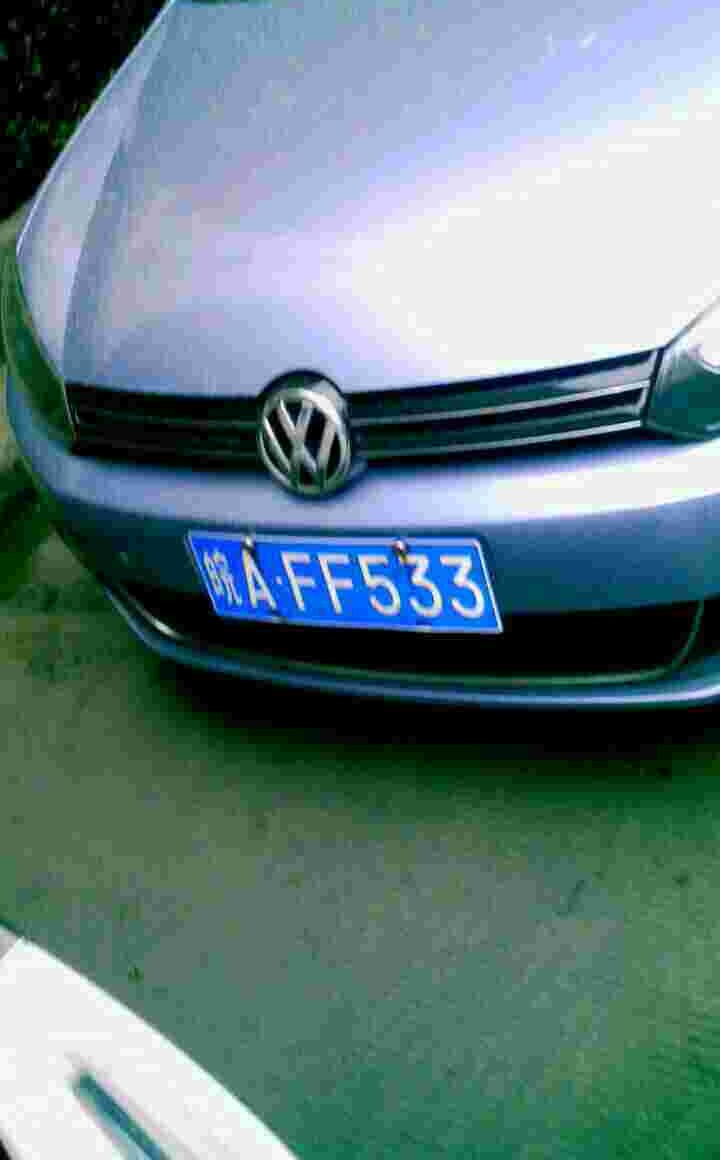license_plate: (202, 541, 500, 636)
